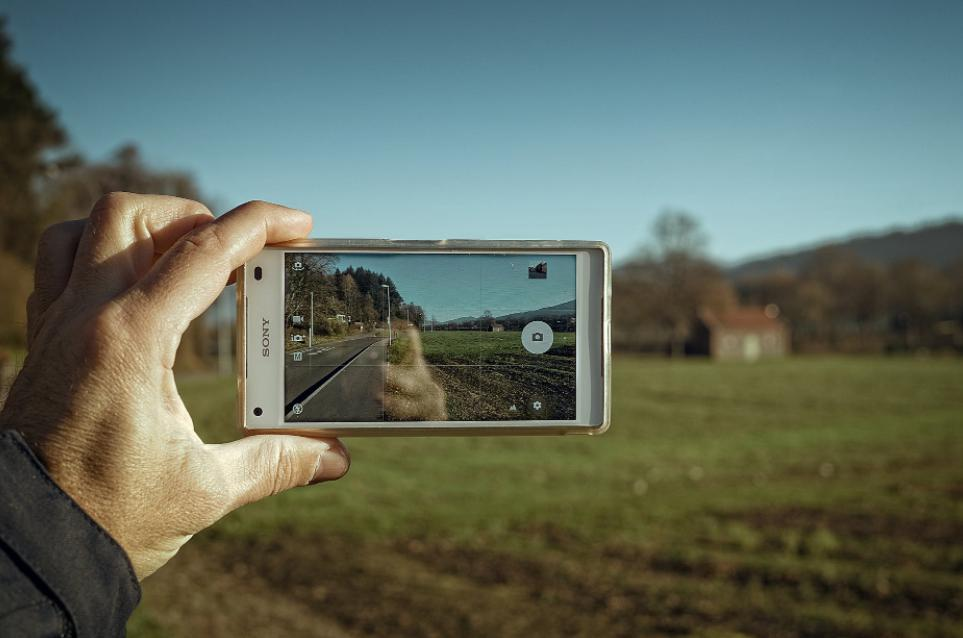mobile: (240, 241, 612, 436)
